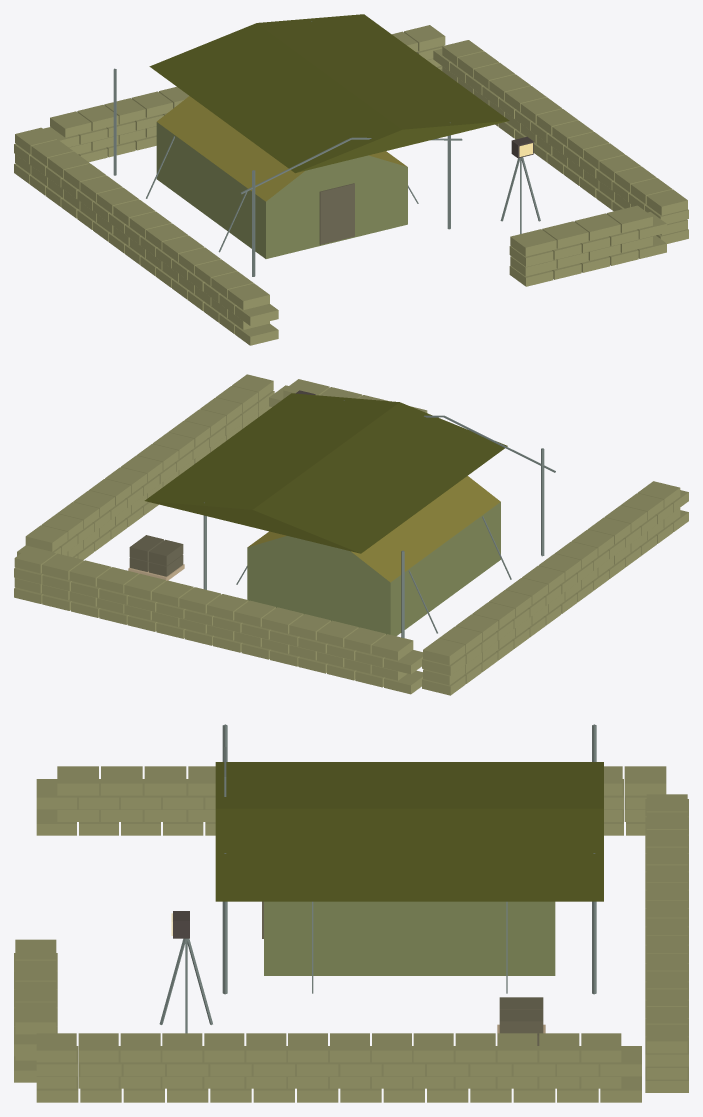
File: SM_PuestoFrente_v3_LOD0.fbx
3 views of the same model, one above another, from view 1: azimuth 30°, elevation 25°; view 2: azimuth 150°, elevation 25°; view 3: azimuth 270°, elevation 25° (orthographic). The views are drawn at different scales.
Parts seen in each view (by area): view 1: SM_bloques.puesto_frente_v3_LOD0; view 2: SM_bloques.puesto_frente_v3_LOD0; view 3: SM_bloques.puesto_frente_v3_LOD0.
Boxes of the visible parts, left/top/right/bottom form: SM_bloques.puesto_frente_v3_LOD0: left=14, top=14, right=688, bottom=345; SM_bloques.puesto_frente_v3_LOD0: left=14, top=374, right=688, bottom=695; SM_bloques.puesto_frente_v3_LOD0: left=14, top=724, right=688, bottom=1102.
Size of the model in its own units: 13.9 by 3.48 by 13.9.
